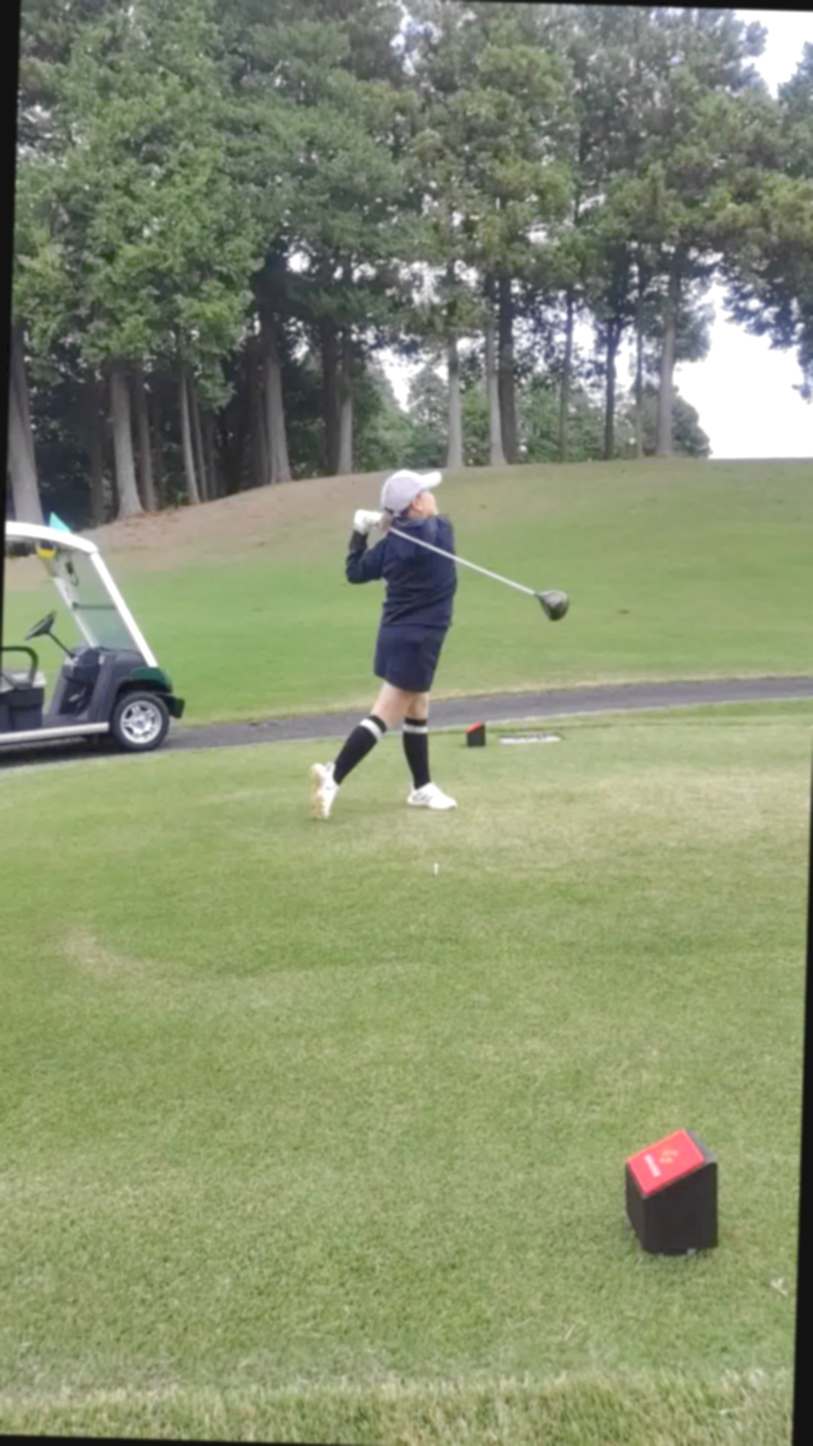clubhead: (506, 557, 618, 698)
